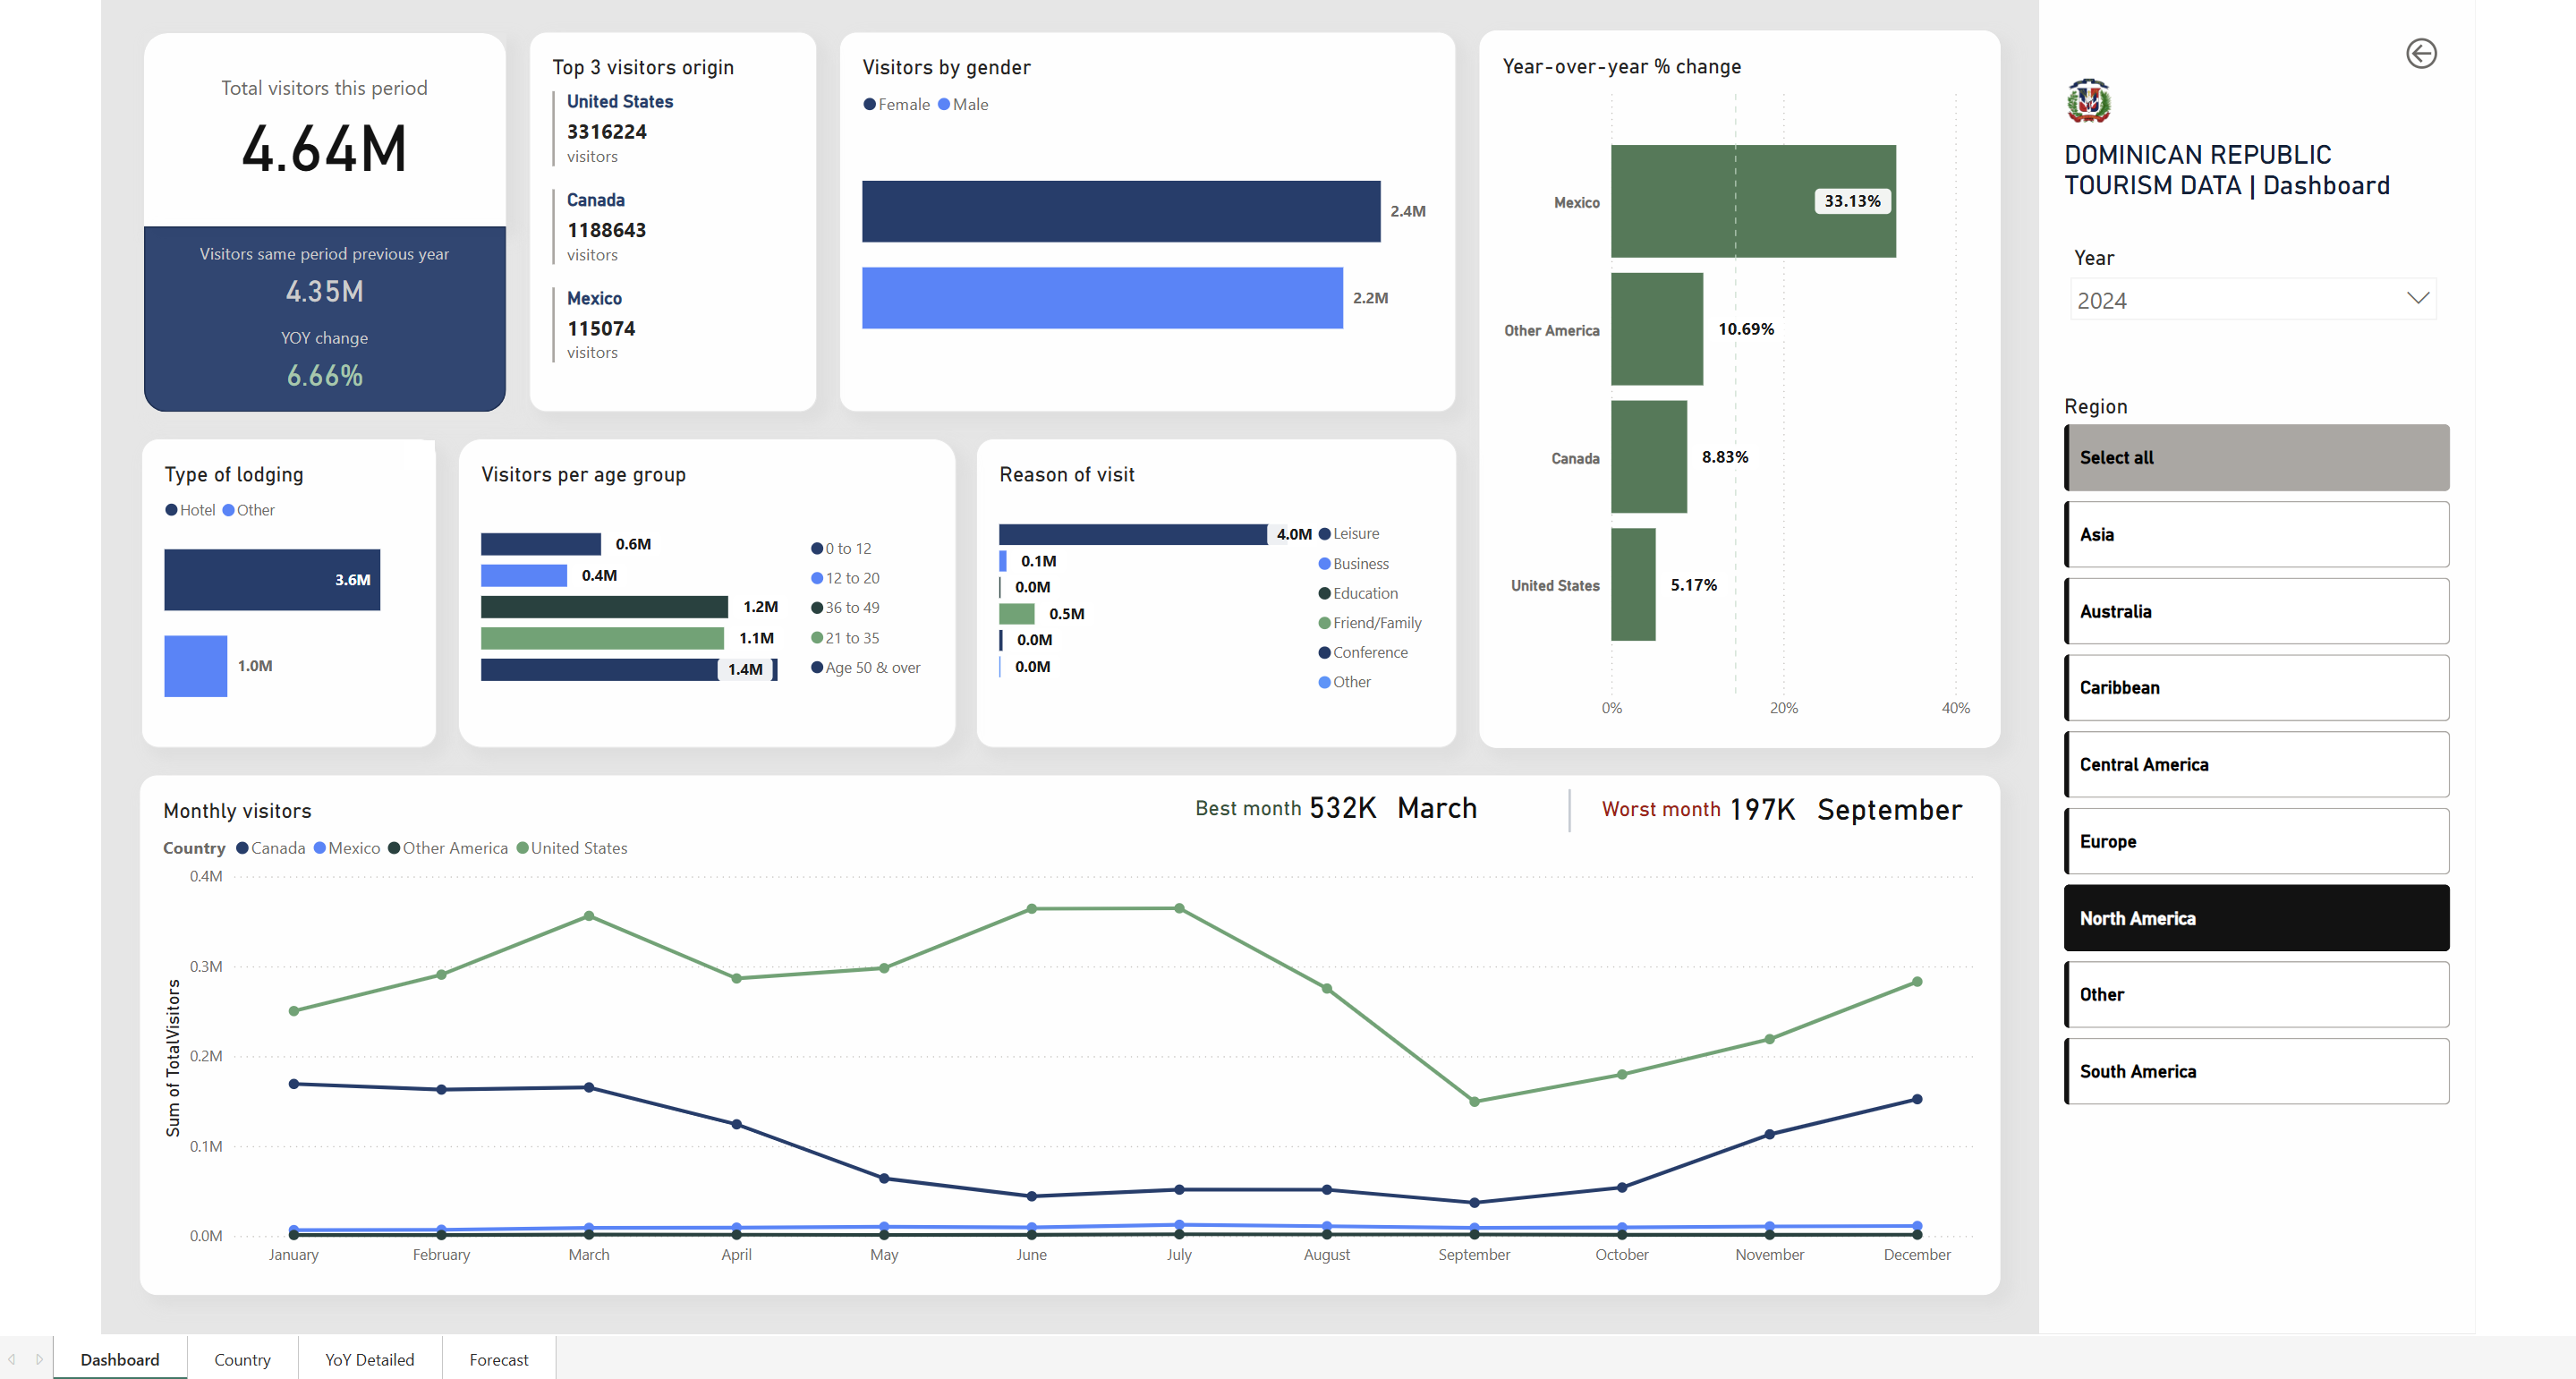

This screenshot's page, from the dashboard's own definition file:
{"tool":"powerbi","page":{"name":"Dashboard","canvas":[1920,1080],"ordinal":0},"visuals":[{"type":"cardVisual","fields":{"Data":["DRtourism_data.MaxMonthlyVisitors"]},"box":[926.2,625.7,111.4,44.3],"z":0,"group":"g1"},{"type":"lineChart","title":"Monthly visitors","fields":{"Series":["DRtourism_data.Country"],"Category":["DateTable.MonthName"],"Y":["Sum(DRtourism_data.TotalVisitors)"]},"box":[31.4,628.6,1504.3,420],"z":0},{"type":"cardVisual","fields":{"Data":["DRtourism_data.MinMonthlyVisitors"]},"box":[1265.3,627.2,111.1,51.1],"z":1000,"group":"g2"},{"type":"shape","box":[34.4,27.8,292.7,156.7],"z":2000},{"type":"cardVisual","fields":{"Data":["DRtourism_data.WorstMonth"]},"box":[1380.9,627.2,140,51.1],"z":3000,"group":"g2"},{"type":"shape","box":[34.4,184.4,292.8,150],"z":4000},{"type":"textbox","box":[1174,640,140.9,41.8],"z":5000,"group":"g2"},{"type":"shape","box":[1567.1,0,352.9,1080],"z":6000},{"type":"textbox","title":"DOMINICAN REPUBLIC TOURISM  DATA  | Dashboard","box":[1582,114,306,82],"z":7000},{"type":"image","box":[1582.9,60,48.6,45.7],"z":8000},{"type":"actionButton","box":[1858.3,26.7,38.3,35],"z":9000},{"type":"clusteredBarChart","title":"Visitors by gender","fields":{"Y":["Sum(DRtourism_data.Female)","Sum(DRtourism_data.Male)"]},"box":[597.1,27.1,498.6,307.1],"z":10000},{"type":"slicer","fields":{"Values":["DateTable.Year"]},"box":[1582.9,195.7,314.3,78.6],"z":11000},{"type":"multiRowCard","title":"Top 3 visitors origin","fields":{"Values":["DRtourism_data.Country","DRtourism_data.Sum of visitors"]},"box":[345.7,27.1,232.9,307.1],"z":12000},{"type":"clusteredBarChart","title":"Type of lodging","fields":{"Y":["Sum(DRtourism_data.Hotelstay)","Sum(DRtourism_data.Otherstay)"]},"box":[32.9,355.7,238.6,250],"z":13000},{"type":"clusteredBarChart","title":"Year-over-year % change","fields":{"Category":["DRtourism_data.Country"],"Y":["DRtourism_data.Visitors_visitors_diff"]},"box":[1114.3,25.7,421.4,580],"z":14000},{"type":"clusteredBarChart","title":"Reason of visit","fields":{"Y":["Sum(DRtourism_data.Leisure)","Sum(DRtourism_data.Business)","Sum(DRtourism_data.Education)","Sum(DRtourism_data.Friend_Family)","Sum(DRtourism_data.Conf_Convention)","Sum(DRtourism_data.Otherreason)"]},"box":[707.1,355.7,388.6,250],"z":15000},{"type":"cardVisual","fields":{"Data":["Sum(DRtourism_data.TotalVisitors)"]},"box":[34.3,40,292.9,130],"z":16000},{"type":"textbox","box":[834.3,638.6,141.4,41.4],"z":16003,"group":"g1"},{"type":"cardVisual","fields":{"Data":["DRtourism_data.BestMonth"]},"box":[1041.9,625.7,140,44.3],"z":16503,"group":"g1"},{"type":"cardVisual","fields":{"Data":["DRtourism_data.Visitors_sameperiod_previous_year","DRtourism_data.Visitors_visitors_diff"]},"box":[34.4,176.4,292.7,150],"z":17000},{"type":"clusteredBarChart","title":"Visitors per age group","fields":{"Y":["Sum(DRtourism_data.Age0to12)","Sum(DRtourism_data.Age13to20)","Sum(DRtourism_data.Age36to49)","Sum(DRtourism_data.Age21to35)","Sum(DRtourism_data.Age50over)"]},"box":[288.6,355.7,402.9,250],"z":18000},{"type":"advancedSlicerVisual","fields":{"Values":["DRtourism_data.Region"]},"box":[1582.9,315.7,320,585.7],"z":19000},{"type":"group","id":"g1","title":"Group 1","box":[834.3,625.7,347.3,54.5],"z":20000,"group":"g2"},{"type":"shape","box":[1166.7,638.2,41.8,35.5],"z":21000,"group":"g2"},{"type":"group","id":"g2","title":"Group 2","box":[834.3,625.7,687.1,57.1],"z":21001}]}

Visuals, with their boxes on the page's 1920x1080 design canvas (x1, y1, x2, y2). These are canvas units, not pixel positions in the 2576x1379 screenshot, which may show the page scaled, cropped or inside an application window:
cardVisual - DRtourism_data.MaxMonthlyVisitors: bbox(926, 626, 1038, 670)
"Monthly visitors" lineChart: bbox(31, 629, 1536, 1049)
cardVisual - DRtourism_data.MinMonthlyVisitors: bbox(1265, 627, 1376, 678)
shape: bbox(34, 28, 327, 184)
cardVisual - DRtourism_data.WorstMonth: bbox(1381, 627, 1521, 678)
shape: bbox(34, 184, 327, 334)
textbox: bbox(1174, 640, 1315, 682)
shape: bbox(1567, 0, 1920, 1080)
"DOMINICAN REPUBLIC TOURISM  DATA  | Dashboard" textbox: bbox(1582, 114, 1888, 196)
image: bbox(1583, 60, 1632, 106)
actionButton: bbox(1858, 27, 1897, 62)
"Visitors by gender" clusteredBarChart: bbox(597, 27, 1096, 334)
slicer - DateTable.Year: bbox(1583, 196, 1897, 274)
"Top 3 visitors origin" multiRowCard: bbox(346, 27, 579, 334)
"Type of lodging" clusteredBarChart: bbox(33, 356, 272, 606)
"Year-over-year % change" clusteredBarChart: bbox(1114, 26, 1536, 606)
"Reason of visit" clusteredBarChart: bbox(707, 356, 1096, 606)
cardVisual - Sum(DRtourism_data.TotalVisitors): bbox(34, 40, 327, 170)
textbox: bbox(834, 639, 976, 680)
cardVisual - DRtourism_data.BestMonth: bbox(1042, 626, 1182, 670)
cardVisual - DRtourism_data.Visitors_sameperiod_previous_year x DRtourism_data.Visitors_visitors_diff: bbox(34, 176, 327, 326)
"Visitors per age group" clusteredBarChart: bbox(289, 356, 692, 606)
advancedSlicerVisual - DRtourism_data.Region: bbox(1583, 316, 1903, 901)
"Group 1" group: bbox(834, 626, 1182, 680)
shape: bbox(1167, 638, 1208, 674)
"Group 2" group: bbox(834, 626, 1521, 683)
